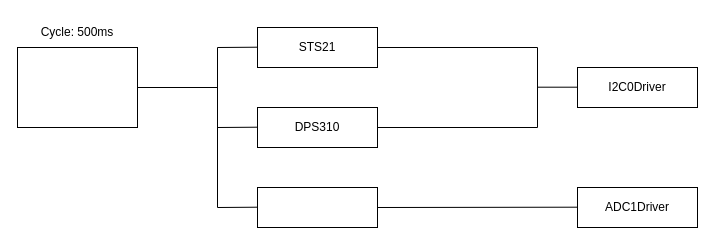
Some shapes in this 715 by 245 pixel diagram are drawn without their labels. The shapes that lost their labels are listed below. From the top down, each one's centre as x and y in pixels, then its label:
the point at 77,87: EnvSensManager
the point at 317,207: NTC
